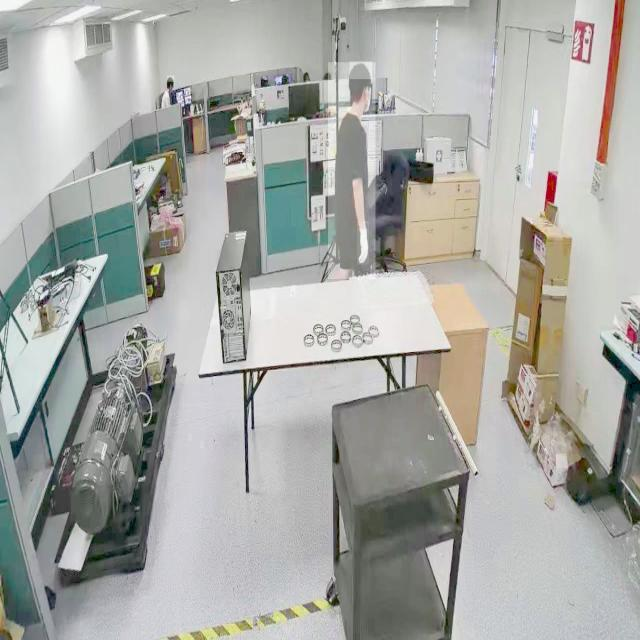hand_glove: (357, 221, 369, 266)
head_nohelmet: (349, 61, 372, 80), (167, 76, 174, 82)
person: (328, 62, 376, 280)
